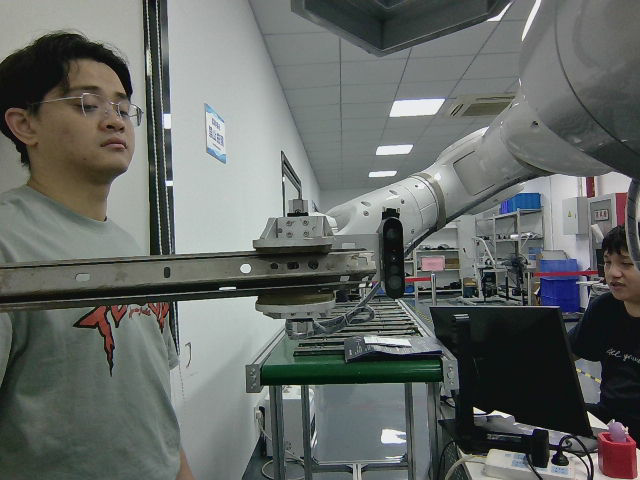right: (1, 241, 378, 312)
